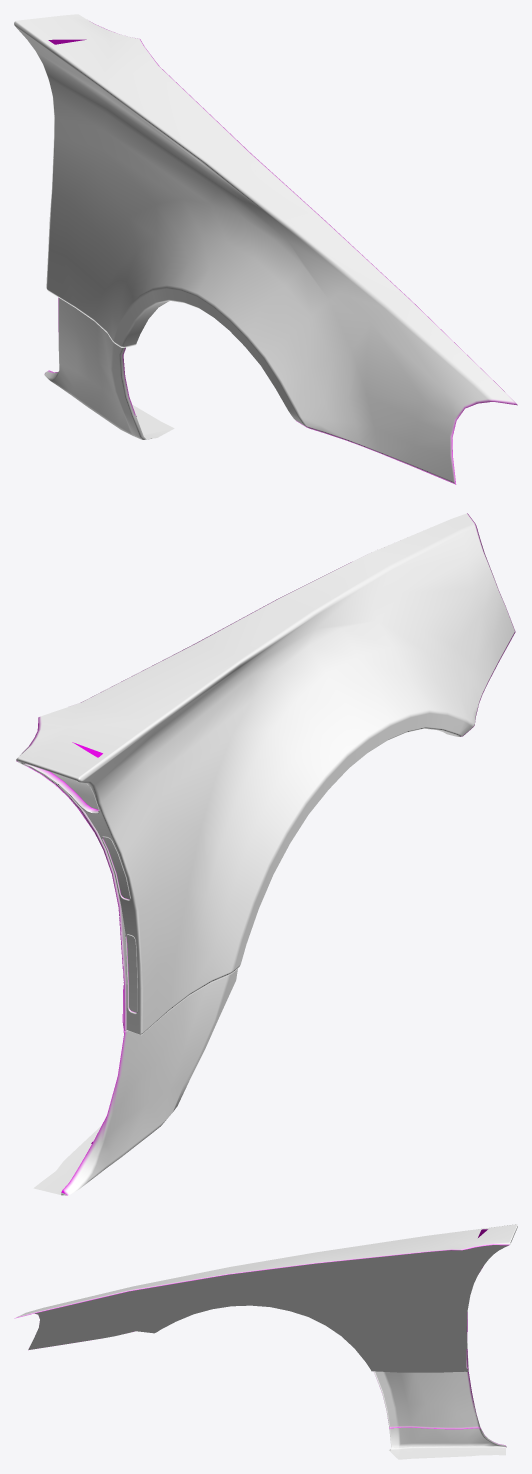
File: Car_Nissan_SkylineGTRVspecR34_1999_FenderFR_SetE_AltB.fbx
3 renders of one model, top to bottom at view 1: azimuth 30°, elevation 25°; view 2: azimuth 150°, elevation 25°; view 3: azimuth 270°, elevation 25°, orthographic. The views are drawn at different scales.
Parts seen in each view (by area): view 1: FenderFR 6; view 2: FenderFR 6; view 3: FenderFR 6.
Part boxes in pixels (<box>): FenderFR 6: <box>14,14,517,484</box>; FenderFR 6: <box>16,513,515,1195</box>; FenderFR 6: <box>14,1224,517,1459</box>.
Bounding box in the file's own units: 0.2093 × 0.6255 × 1.32.
